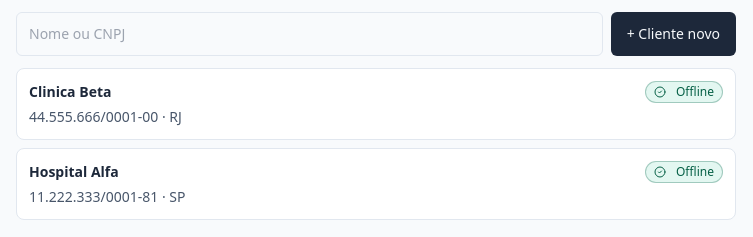
Test: ClientesPage › filtra por dígitos do CNPJ ignorando pontuação
Expected: the text "Hospital Alfa" is shown, [29,162,119,182]
Step 1. Type "112223330001" into the search field → (309, 34), box [16,12,603,56]
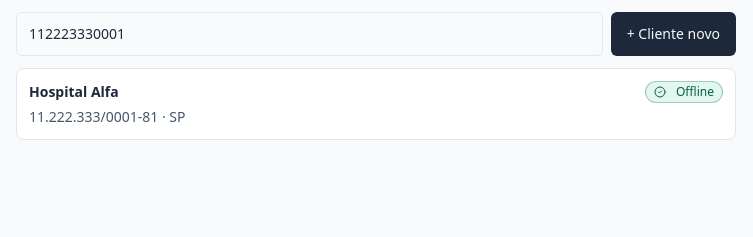
Expected: the text "Hospital Alfa" is shown, [29,82,119,102]
Now the link "Clinica Beta" is gone
